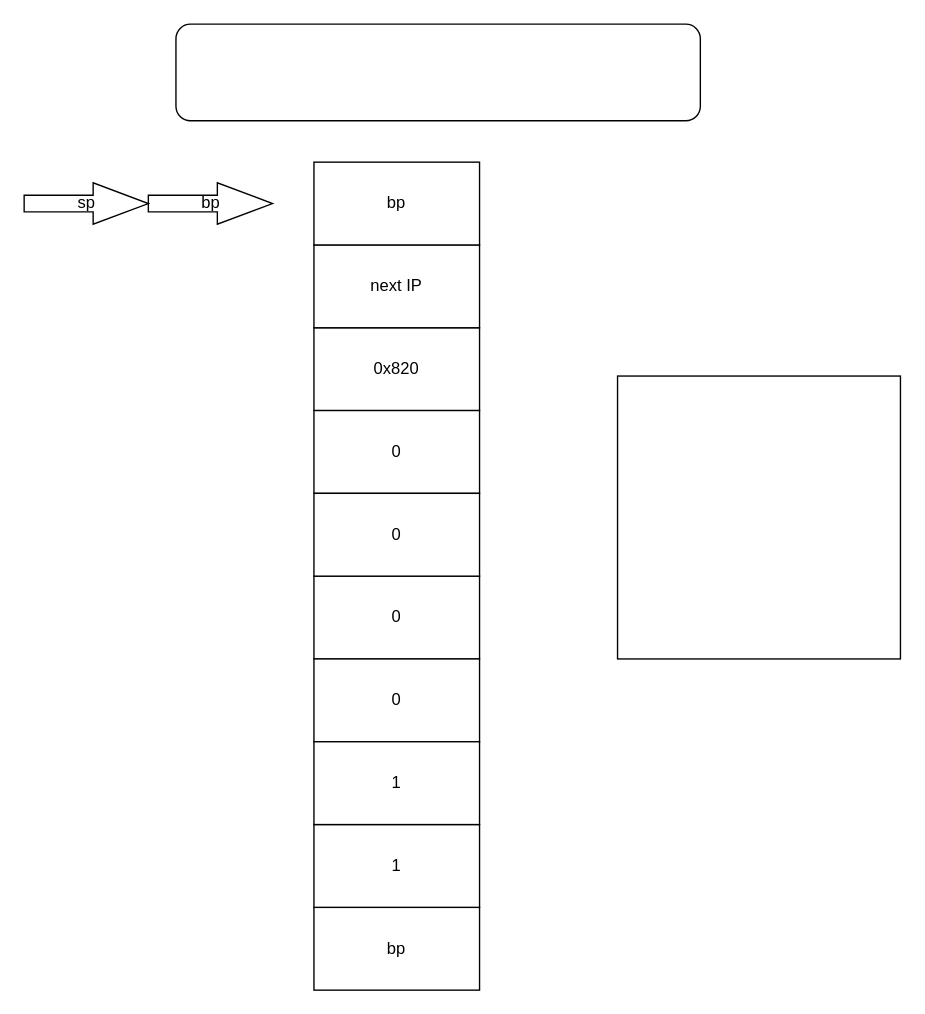
Image size: 925x1014. Some labels were removed from this diagram. The centre of each missing label's shape, as x and y in pixels:
push $0x1 push $0x1 push $0x0 push $0x0 push $0x0 push $0x0 push $0x820: [758,517]
stack of read_sector: [437,72]
